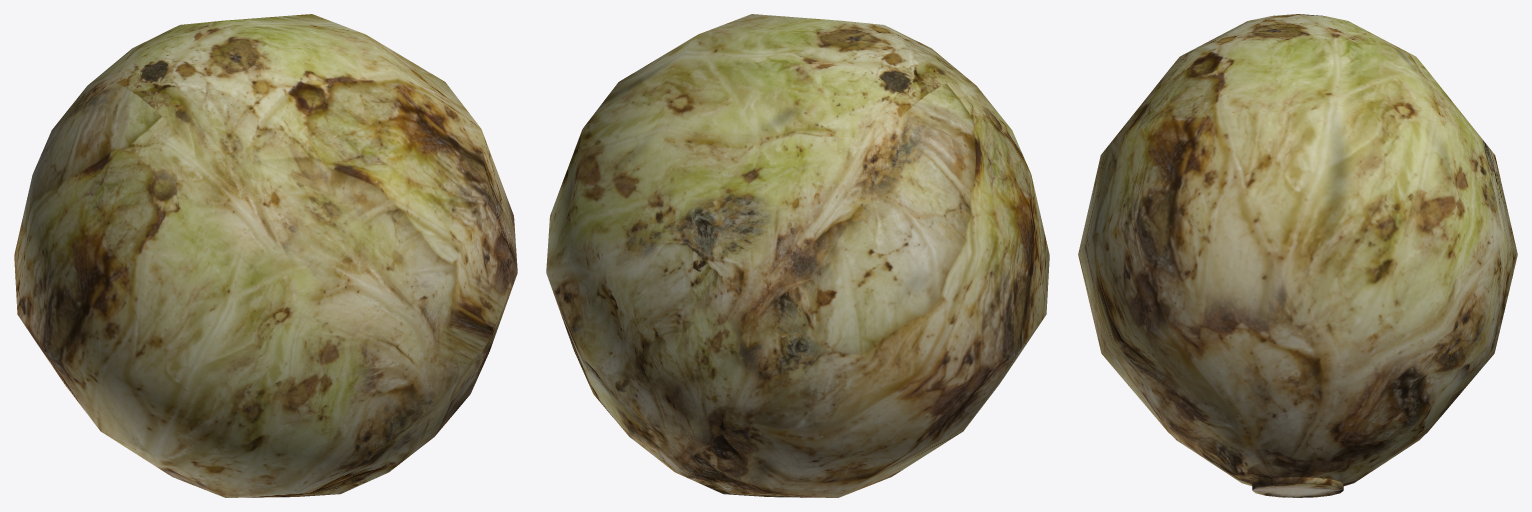
File: Sayur Busuk.fbx
3 renders of one model, left to right at view 1: azimuth 30°, elevation 25°; view 2: azimuth 150°, elevation 25°; view 3: azimuth 270°, elevation 25°, orthographic. The views are drawn at different scales.
Parts seen in each view (by area): view 1: Sayur Busuk; view 2: Sayur Busuk; view 3: Sayur Busuk.
Part boxes in pixels (<box>): Sayur Busuk: <box>14,14,517,497</box>; Sayur Busuk: <box>546,14,1049,497</box>; Sayur Busuk: <box>1078,14,1517,497</box>.
Bounding box in the file's own units: 21.15 × 21.2 × 20.4.
1 material, 1 textured.
